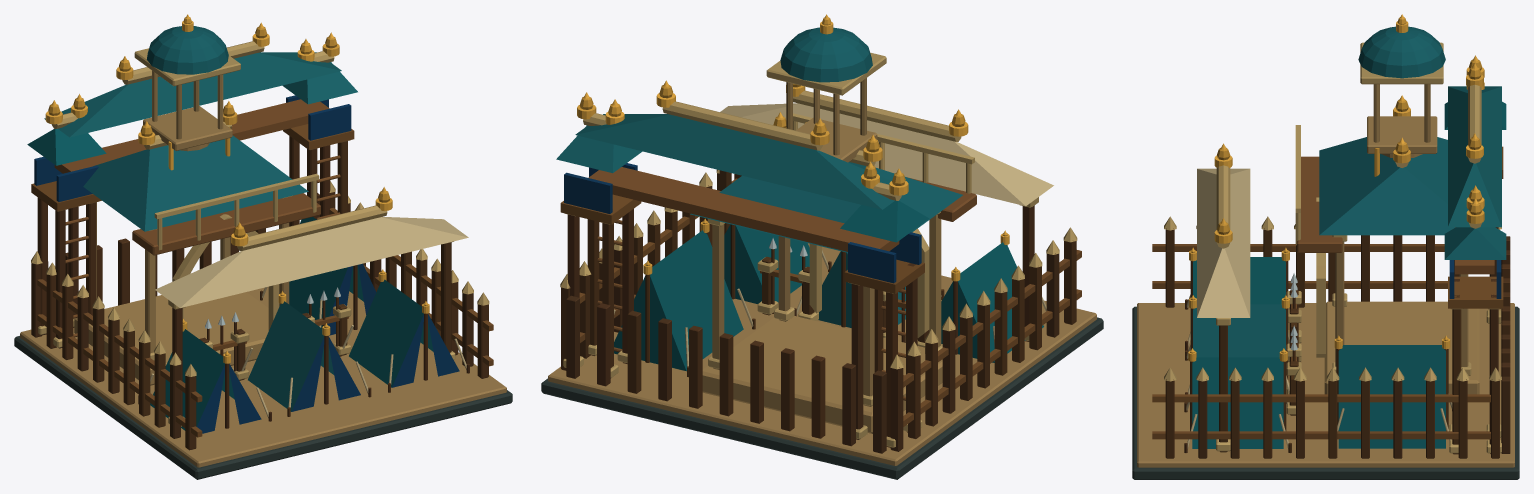
3 views of the same model, side by side, from view 1: azimuth 30°, elevation 25°; view 2: azimuth 150°, elevation 25°; view 3: azimuth 270°, elevation 25° (orthographic). The views are drawn at different scales.
Parts seen in each view (by area): view 1: camp_level15_structure, camp_level15_metal; view 2: camp_level15_structure, camp_level15_metal; view 3: camp_level15_structure, camp_level15_metal.
Part boxes in pixels (<box>): camp_level15_structure: <box>14,17,512,479</box>; camp_level15_metal: <box>45,14,429,363</box>; camp_level15_structure: <box>541,17,1103,479</box>; camp_level15_metal: <box>577,14,1009,281</box>; camp_level15_structure: <box>1132,17,1519,479</box>; camp_level15_metal: <box>1188,14,1484,361</box>.
Bounding box in the file's own units: 5.6 × 5.81 × 5.6.
